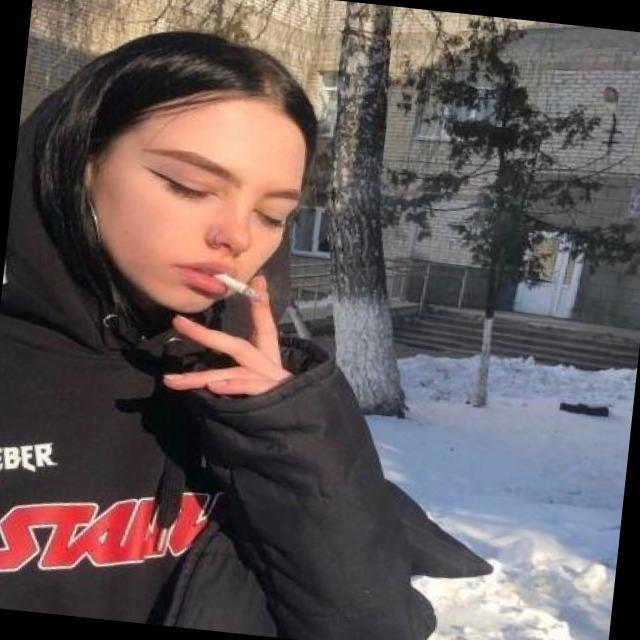cigarette: (198, 254, 278, 316)
